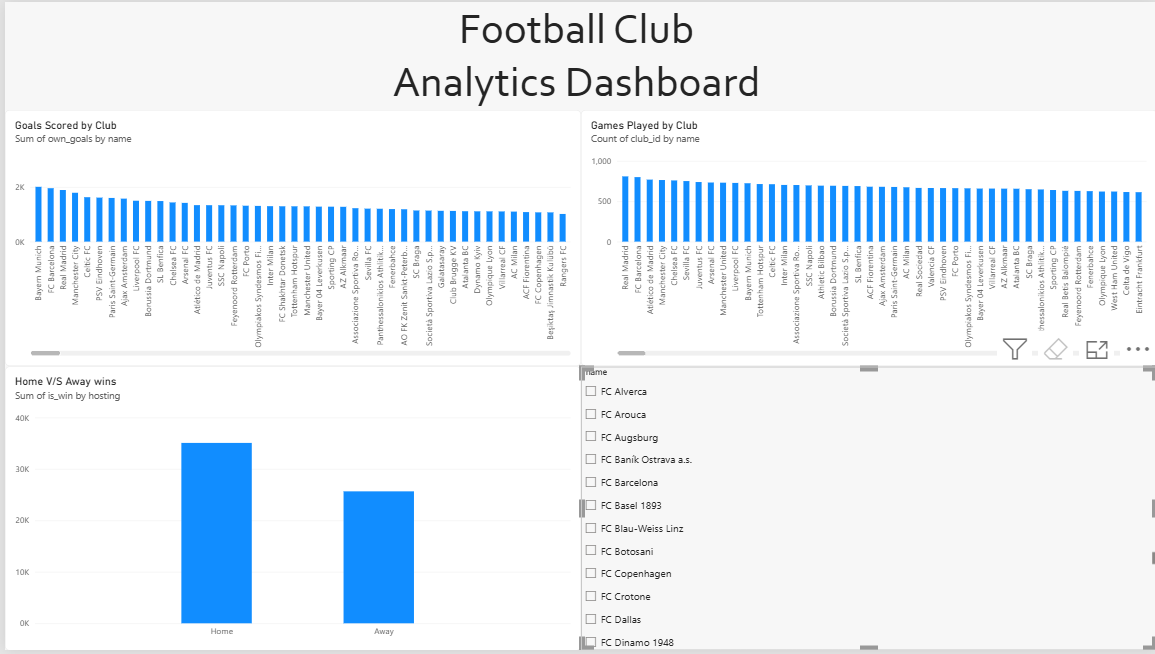

What the dashboard file says about the page in this screenshot:
{"tool":"powerbi","page":{"name":"Page 1","canvas":[1920,1080],"ordinal":0},"visuals":[{"type":"clusteredColumnChart","title":"Games Played by Club","fields":{"Category":["clubs.name"],"Y":["CountNonNull(club games.club_id)"]},"box":[960,180,960,426.7],"z":0},{"type":"clusteredColumnChart","title":"Goals Scored by Club","fields":{"Category":["clubs.name"],"Y":["Sum(club games.own_goals)"]},"box":[0,180,960,426.7],"z":1},{"type":"clusteredColumnChart","title":"Home V/S Away wins","fields":{"Category":["club games.hosting"],"Y":["Sum(club games.is_win)"]},"box":[0,606.7,960,473.3],"z":2},{"type":"slicer","fields":{"Values":["clubs.name"]},"box":[960,606.7,960,473.3],"z":3},{"type":"textbox","box":[623.3,0,660,180],"z":4}]}

Visuals, with their boxes in screenshot pixels (x1, y1, x2, y2), scaled from the page's 1920x1080 canvas onto the 1155x654 screenshot:
"Games Played by Club" clusteredColumnChart: rect(578, 109, 1154, 367)
"Goals Scored by Club" clusteredColumnChart: rect(0, 109, 578, 367)
"Home V/S Away wins" clusteredColumnChart: rect(0, 367, 578, 653)
slicer - clubs.name: rect(578, 367, 1154, 653)
textbox: rect(375, 0, 772, 109)
